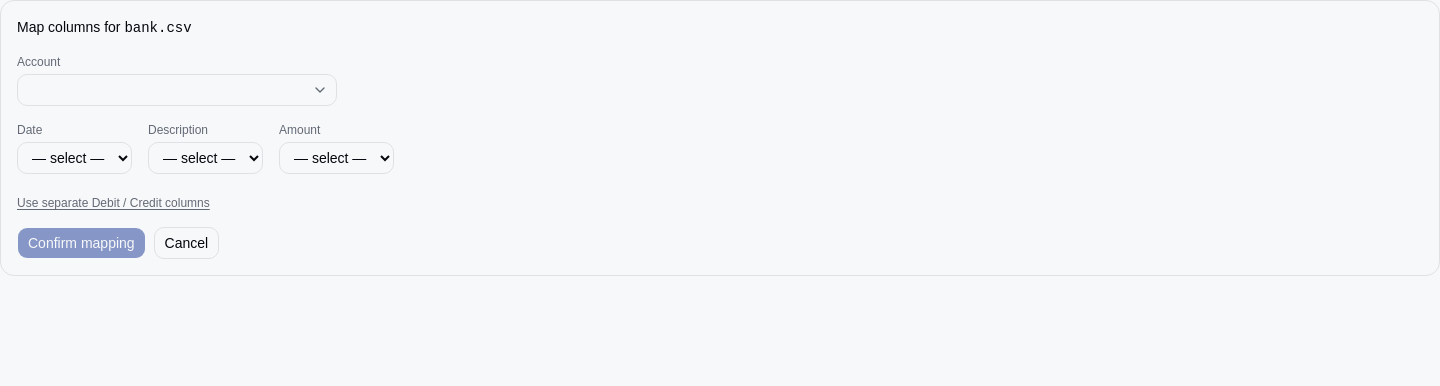
ColumnMapper › adds preview columns live as each mapping is selected
Select "Date" in the dropdown labelled "Date" at (74, 158), box [17,142,132,174]
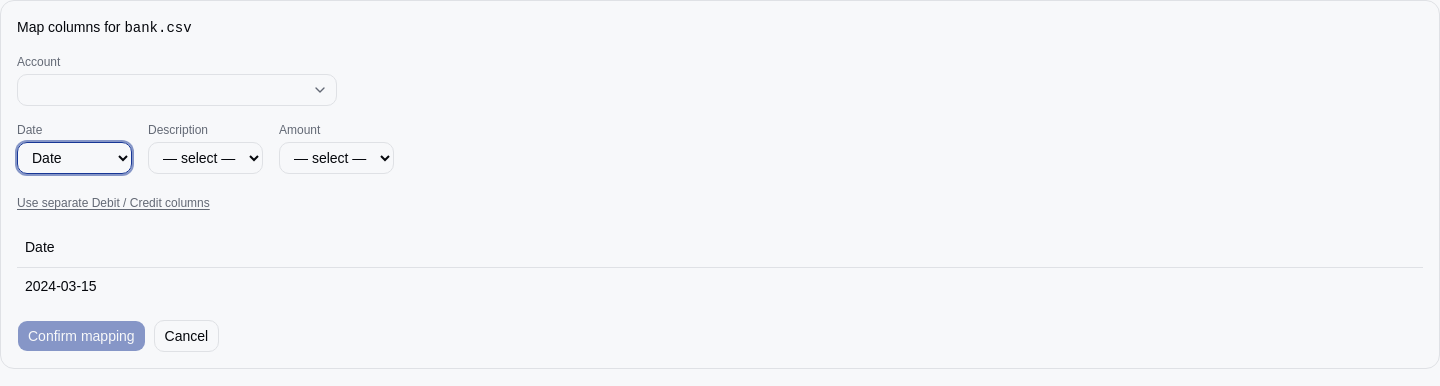
Now the column heading "Date" is shown, box [17,227,1423,267]
Select "Desc" in the dropdown labelled "Description" at (206, 158), box [148,142,263,174]
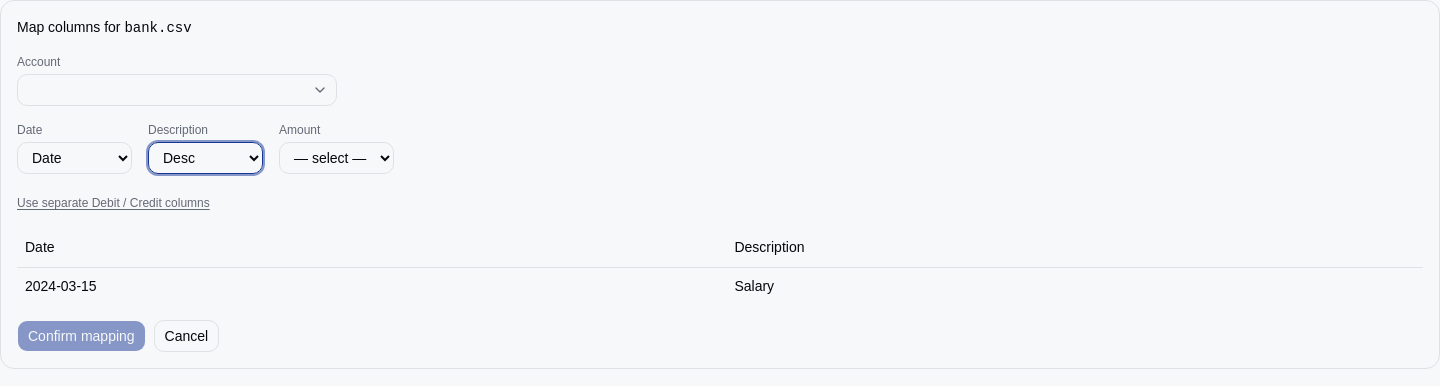
Now the column heading "Description" is shown, box [726,227,1423,267]
Now the text "Salary" is shown, box [726,267,1423,304]
